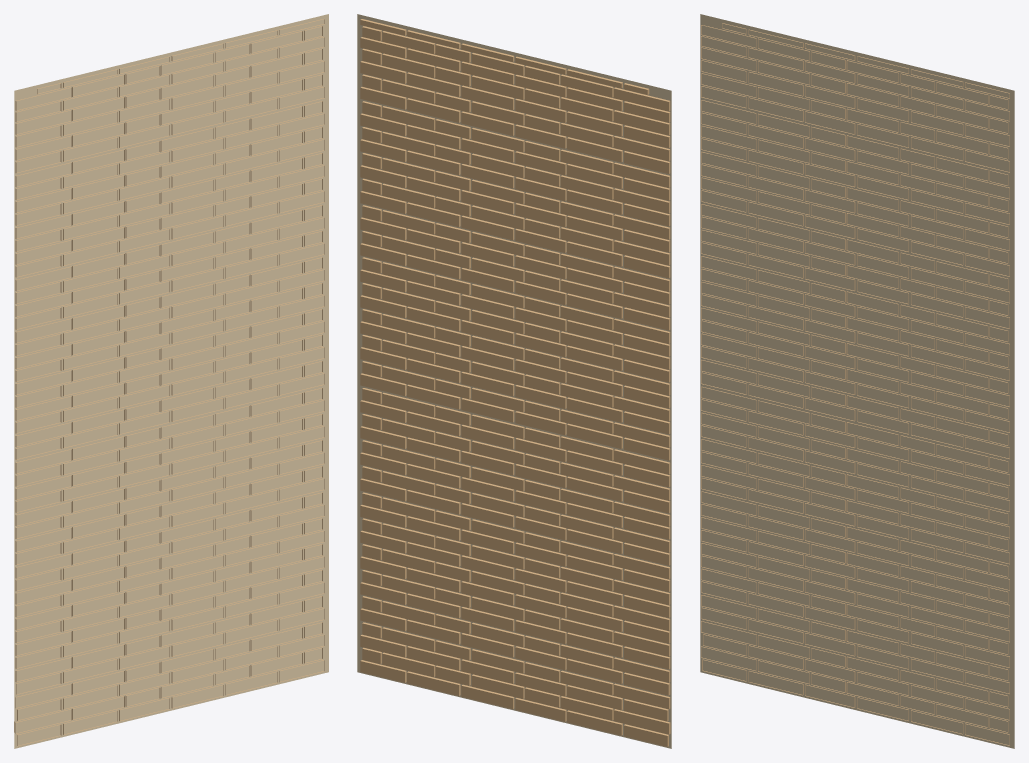
File: AA_Baksteenmuur01_LOD0.fbx
3 renders of one model, left to right at view 1: azimuth 30°, elevation 25°; view 2: azimuth 150°, elevation 25°; view 3: azimuth 330°, elevation 25°, orthographic.
Visible parts, largest first — view 1: AA_BaksteenMuur01_LOD0; view 2: AA_BaksteenMuur01_LOD0; view 3: AA_BaksteenMuur01_LOD0.
Boxes of the visible parts, <box> form: AA_BaksteenMuur01_LOD0: <box>14,14,328,748</box>; AA_BaksteenMuur01_LOD0: <box>357,14,671,748</box>; AA_BaksteenMuur01_LOD0: <box>700,14,1014,748</box>.
Size of the model in its own units: 4 by 8 by 0.0422.
